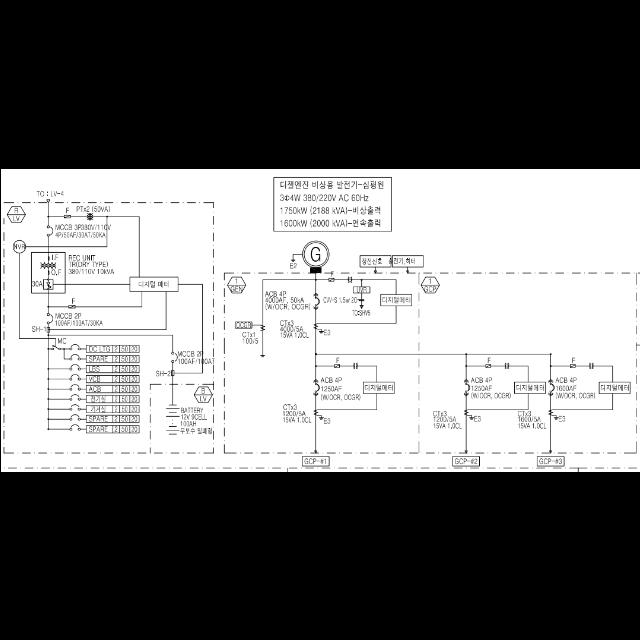ACB: (313, 382, 319, 392), (464, 382, 470, 392), (550, 382, 554, 392)
CT: (548, 408, 554, 416), (312, 322, 318, 328), (312, 408, 318, 414), (464, 408, 468, 416), (260, 324, 264, 331)
MCCB: (46, 224, 52, 236), (68, 373, 80, 379), (68, 403, 80, 409), (46, 312, 52, 324), (69, 343, 79, 349), (69, 353, 79, 359), (69, 363, 79, 369), (69, 383, 79, 389), (69, 393, 79, 399), (69, 413, 79, 419), (69, 423, 79, 429), (171, 352, 177, 362)
PF2: (68, 304, 74, 308), (334, 363, 340, 367), (485, 363, 491, 367), (64, 215, 70, 218), (328, 278, 334, 280), (570, 364, 576, 366)
PT: (86, 212, 92, 220), (346, 276, 352, 282), (352, 362, 358, 368), (505, 362, 509, 368), (589, 362, 593, 368)
